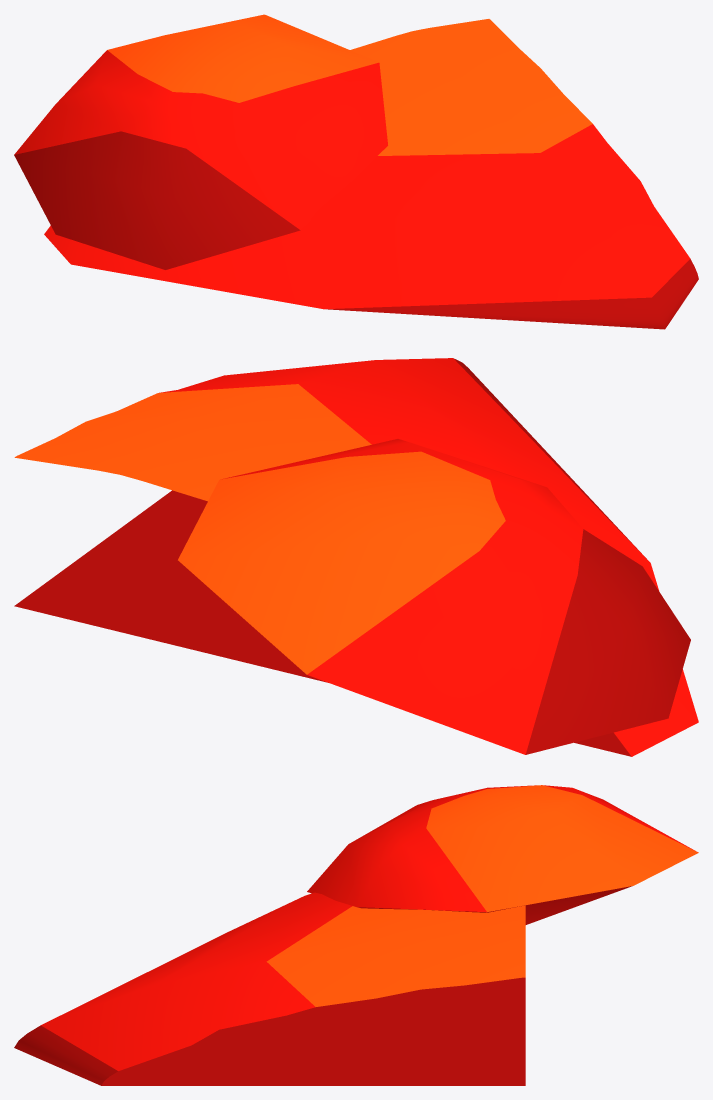
The model's file is shot_zflame_217.glb.
The picture shows the model from 3 angles, top to bottom: view 1: azimuth 30°, elevation 25°; view 2: azimuth 150°, elevation 25°; view 3: azimuth 270°, elevation 25°; orthographic projection. The views are drawn at different scales.
Visible parts, largest first — view 1: zflame_7_bed_b217, zflame_7_billow4_b217; view 2: zflame_7_billow4_b217, zflame_7_bed_b217; view 3: zflame_7_bed_b217, zflame_7_billow4_b217.
Boxes of the visible parts, x1,y1,x2,y2 form: zflame_7_bed_b217: (44,19,698,329); zflame_7_billow4_b217: (14,14,387,269); zflame_7_billow4_b217: (178,439,690,754); zflame_7_bed_b217: (14,358,698,756); zflame_7_bed_b217: (14,892,525,1085); zflame_7_billow4_b217: (307,785,698,924).
Bounding box in the file's own units: 6.92 × 2.2 × 8.89.
